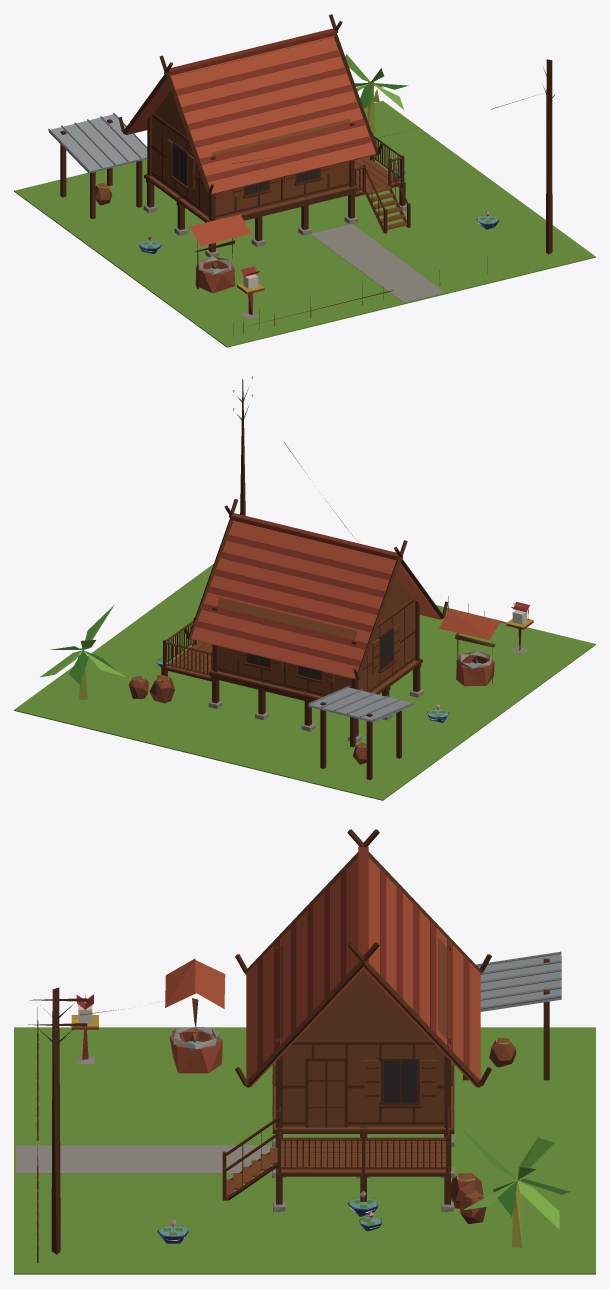
The model's file is home_1.glb.
3 views of the same model, one above another, from view 1: azimuth 30°, elevation 25°; view 2: azimuth 150°, elevation 25°; view 3: azimuth 270°, elevation 25° (orthographic). The views are drawn at different scales.
Parts seen in each view (by area): view 1: body, windows; view 2: body, windows; view 3: body, windows.
Boxes of the visible parts, <box> form: body: <box>14,14,595,347</box>; windows: <box>173,145,318,193</box>; body: <box>14,376,595,800</box>; windows: <box>248,629,393,678</box>; body: <box>14,829,595,1274</box>; windows: <box>384,1061,416,1102</box>.
Size of the model in its own units: 15.9 by 8.05 by 15.9.
